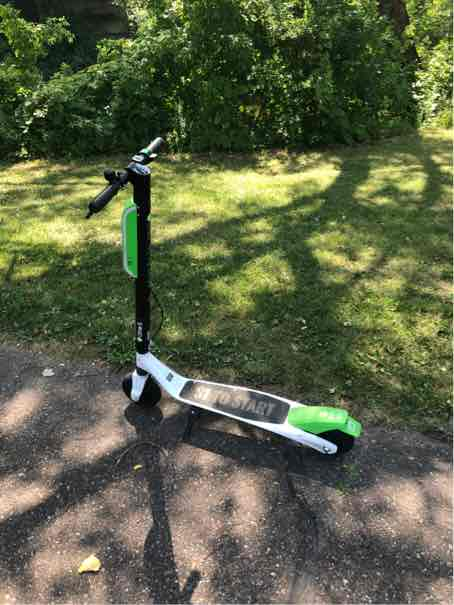scooter: (68, 138, 363, 469)
